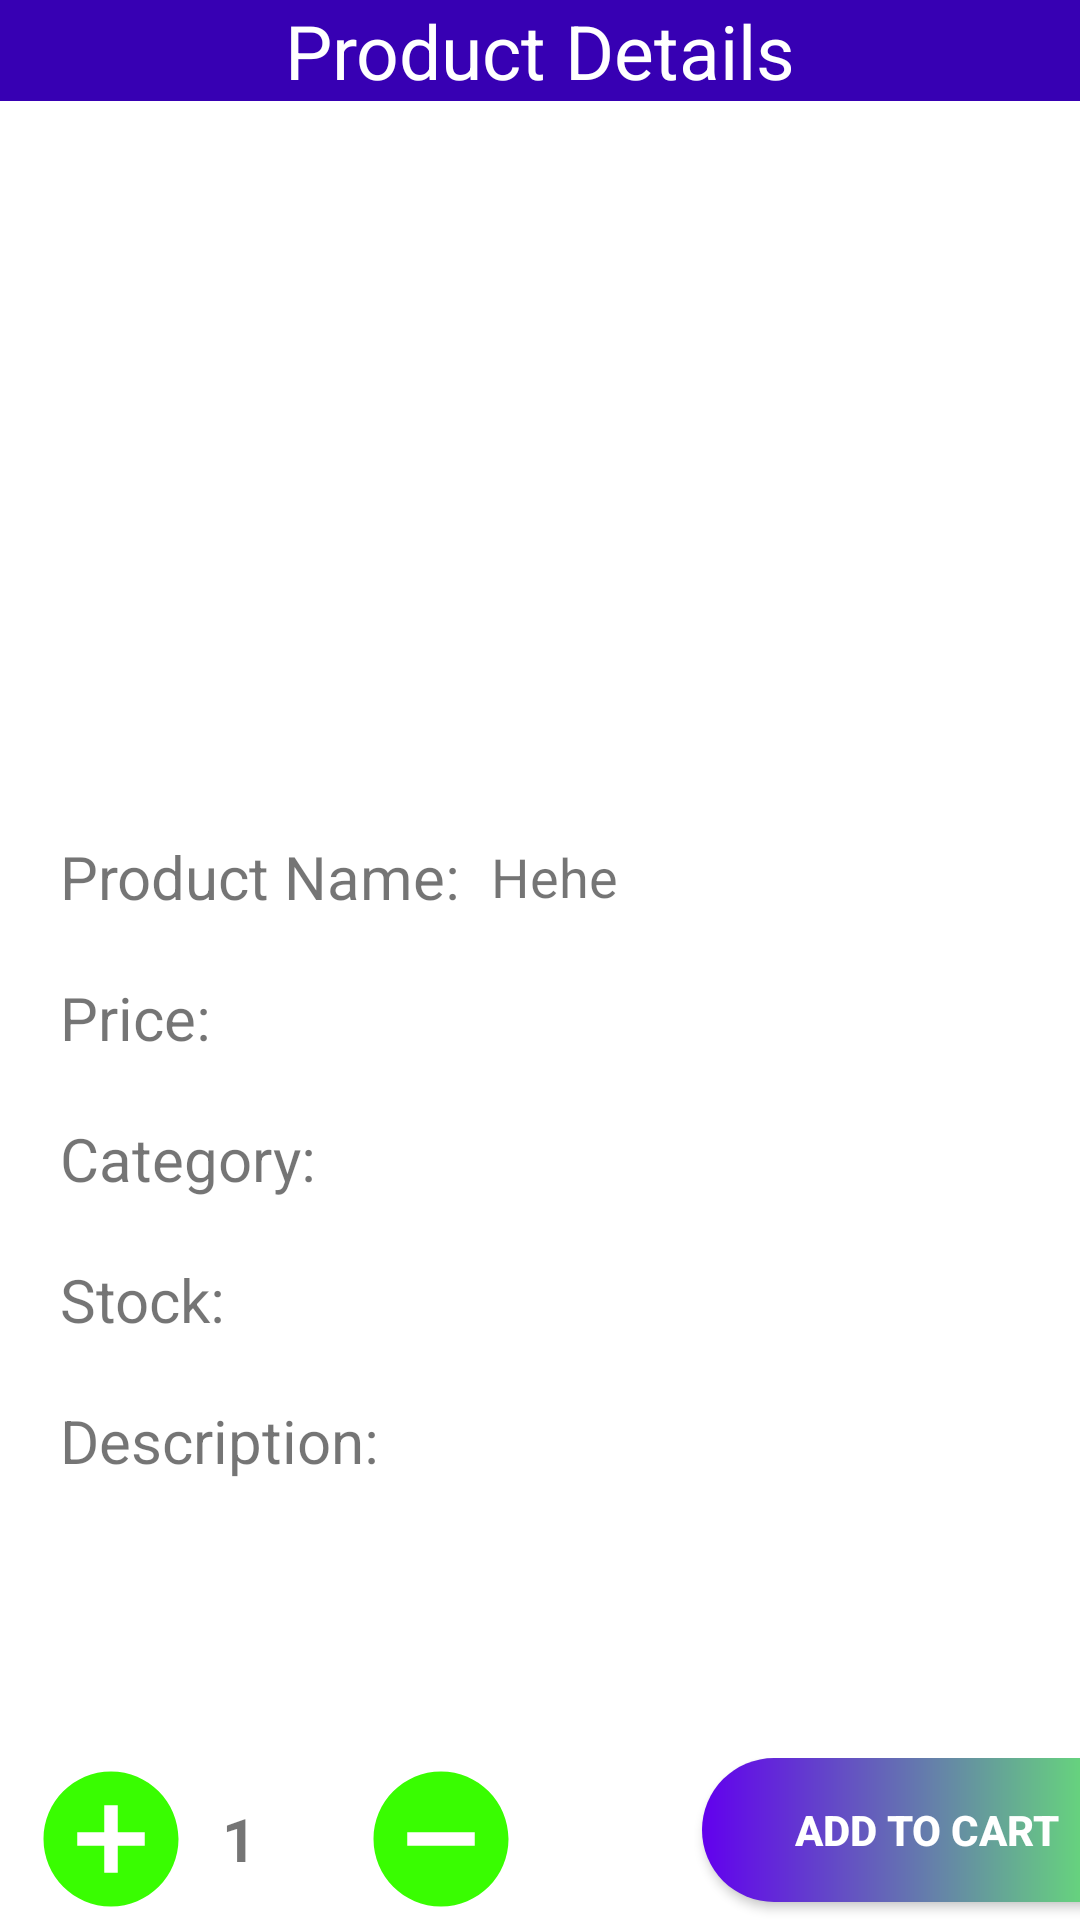

Icons on this 1080x1920 Android screen, each with its box as (x1, y1, x2, y2):
add circle: (43, 1771, 179, 1907)
remove circle: (373, 1771, 509, 1907)
